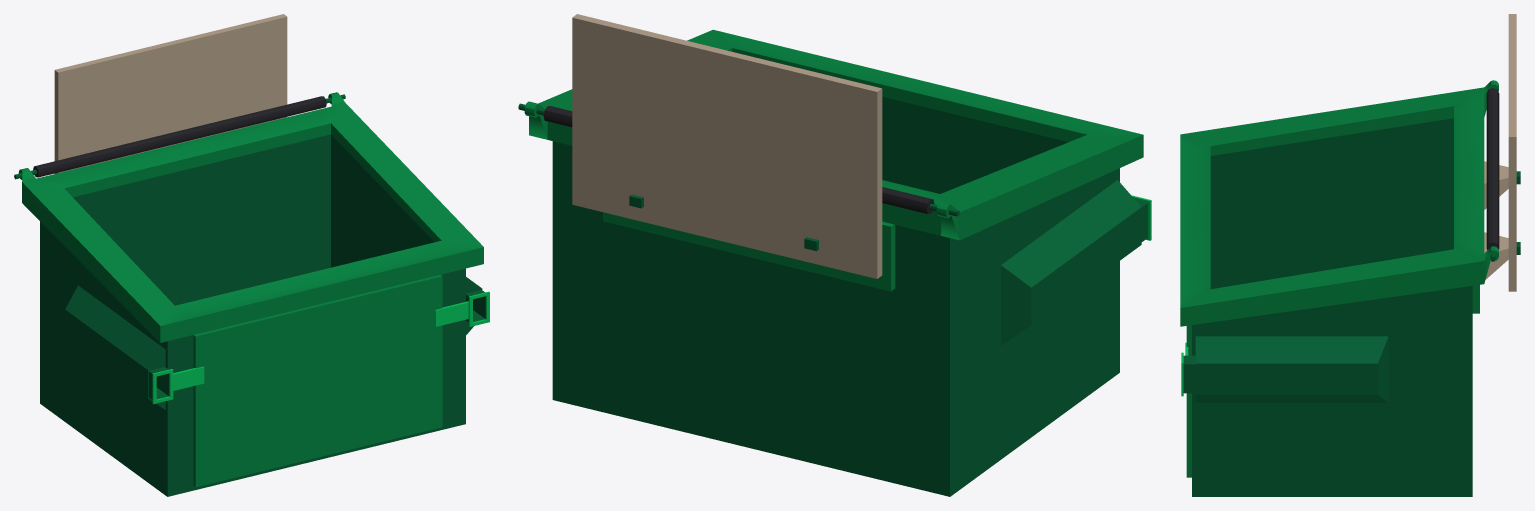
Rendered from Dumpster.fbx.
3 renders of one model, left to right at view 1: azimuth 30°, elevation 25°; view 2: azimuth 150°, elevation 25°; view 3: azimuth 270°, elevation 25°, orthographic. The views are drawn at different scales.
Parts seen in each view (by area): view 1: Dumpster; view 2: Dumpster; view 3: Dumpster.
Boxes of the visible parts, x1,y1,x2,y2 form: Dumpster: (14,14,489,496); Dumpster: (518,14,1151,496); Dumpster: (1180,14,1520,496).
Bounding box in the file's own units: 7.63 × 6.73 × 6.08.
